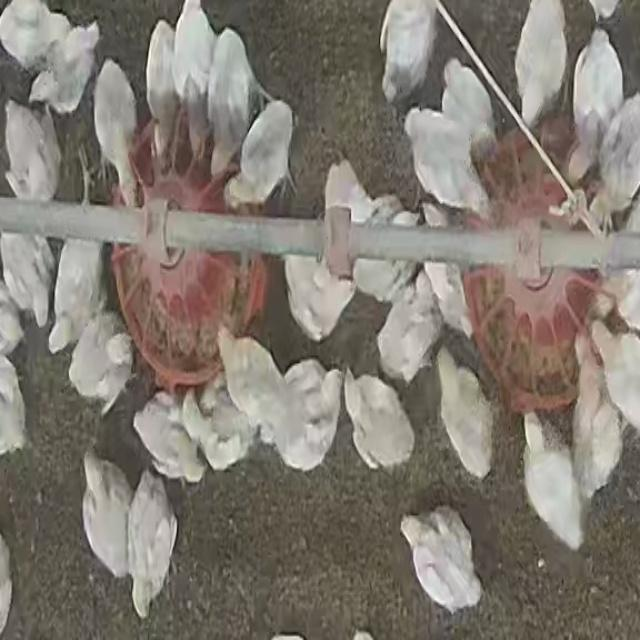chicken: (129, 460, 187, 618), (405, 104, 488, 214), (521, 410, 583, 549), (569, 28, 621, 187), (403, 507, 481, 611), (436, 349, 497, 479), (571, 346, 620, 503), (227, 99, 295, 210), (343, 367, 415, 471), (47, 238, 109, 355), (217, 324, 279, 438), (275, 367, 345, 467), (282, 250, 357, 343), (586, 96, 640, 225), (516, 0, 570, 125), (28, 21, 101, 112), (80, 449, 129, 583), (174, 0, 215, 160), (211, 27, 254, 176), (137, 390, 205, 483), (380, 274, 440, 377), (96, 59, 138, 205), (3, 98, 61, 202), (378, 0, 437, 102), (188, 381, 258, 465), (354, 214, 420, 301), (70, 319, 132, 411), (443, 60, 499, 153), (593, 319, 640, 426), (0, 232, 53, 325), (146, 11, 179, 155), (0, 1, 67, 71), (598, 263, 640, 330)
